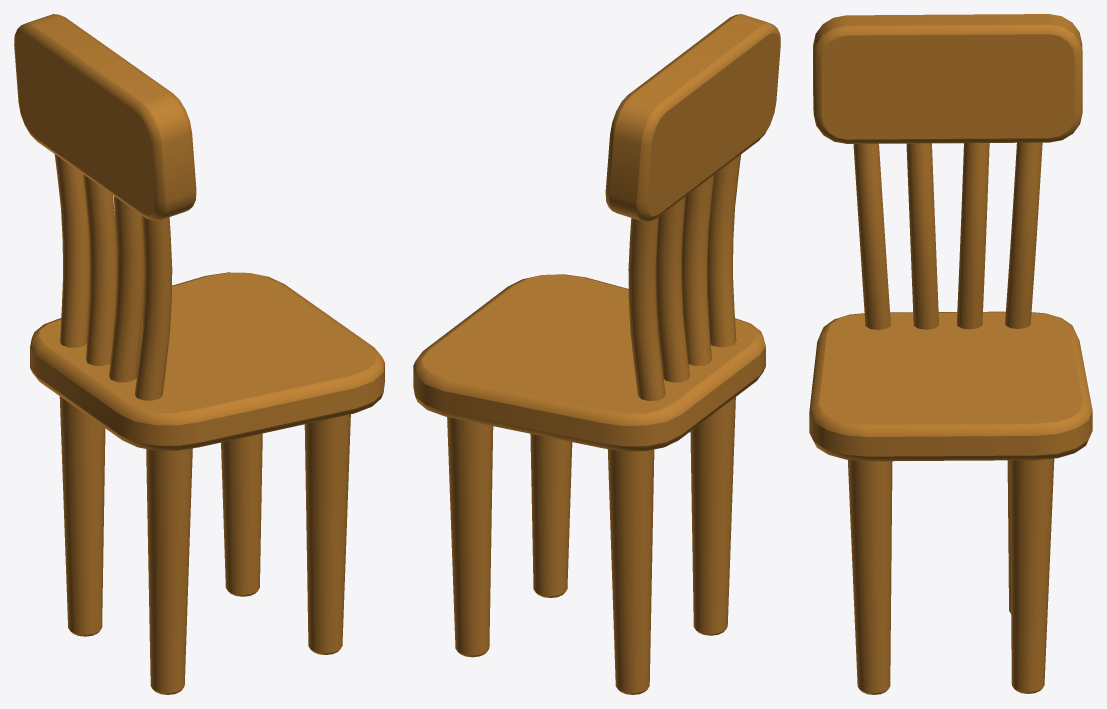
File: Chair.glb
3 views of the same model, side by side, from view 1: azimuth 30°, elevation 25°; view 2: azimuth 150°, elevation 25°; view 3: azimuth 270°, elevation 25° (orthographic). The views are drawn at different scales.
Parts seen in each view (by area): view 1: Chair3; view 2: Chair3; view 3: Chair3.
Boxes of the visible parts, <box> form: Chair3: <box>14,14,384,694</box>; Chair3: <box>413,14,780,694</box>; Chair3: <box>809,14,1092,694</box>.
Size of the model in its own units: 0.4625 by 1.04 by 0.4584.
